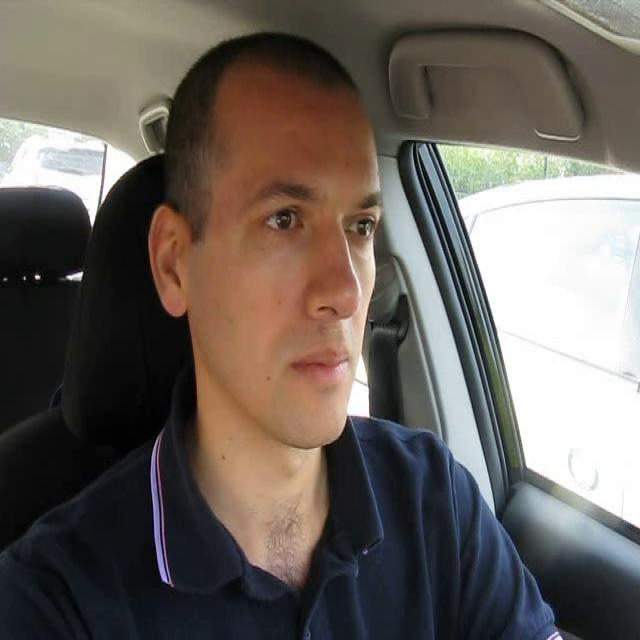close: (286, 345, 353, 390)
